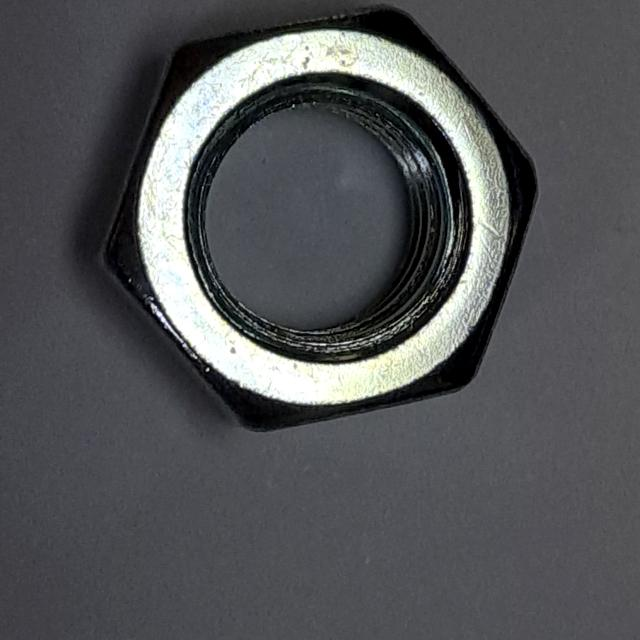Excellent: (53, 1, 555, 446)
